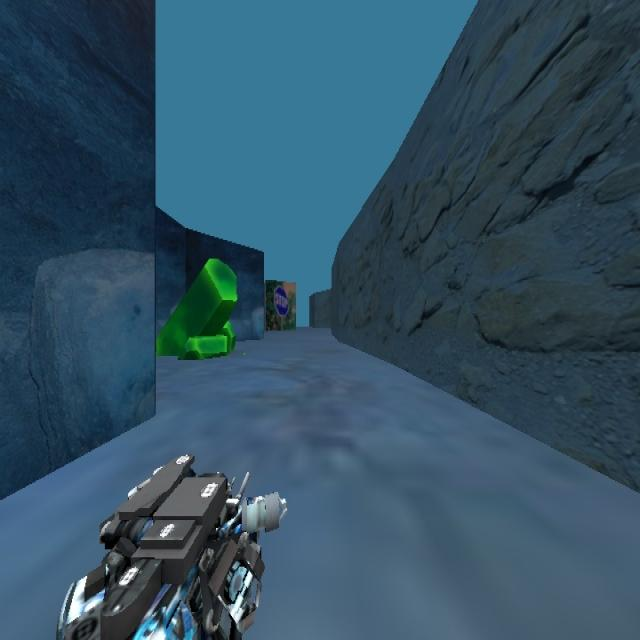Diamon: (155, 256, 238, 360)
Stop_Sign: (268, 278, 296, 330), (272, 284, 289, 316)
